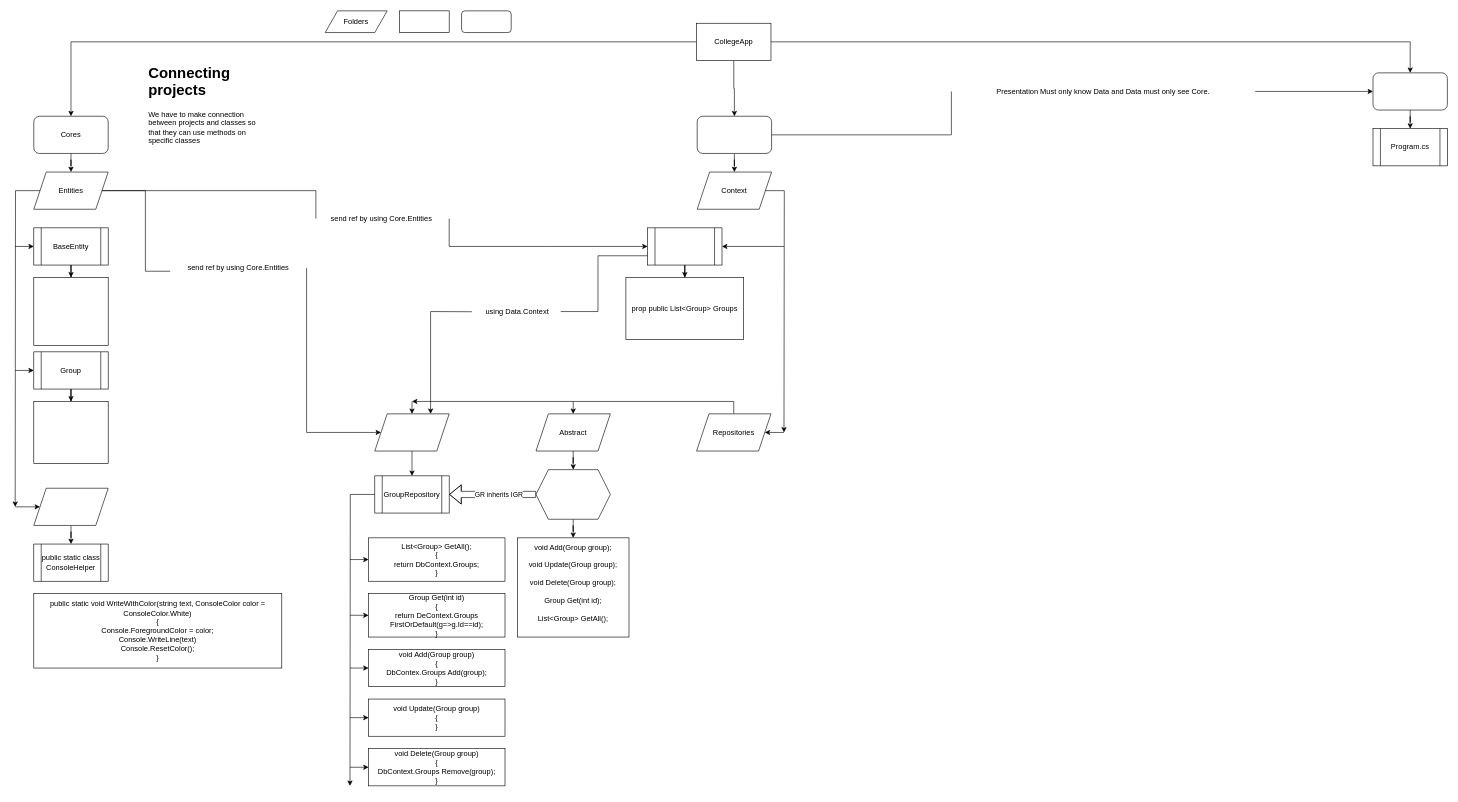
Image size: 1458x802. Some labels were removed from this diagram. Here are the shapes that lost their labels. From the top down, the box of each, then its label:
(399, 10, 449, 33): AppName
(461, 10, 511, 33): Projects
(1372, 72, 1447, 110): Presentation
(697, 116, 772, 153): Data
(647, 227, 722, 265): pub sta class DbContext
(33, 277, 108, 346): public class prop int MaxSze prop DT StartDate prop DT EndDate
(33, 401, 108, 463): Abstract class prop int Id prop DT Created@ prop DT Modified@
(374, 413, 449, 451): Concrete
(33, 488, 108, 525): Helpers
(535, 469, 610, 519): abstract(interface) IGroupRepository
